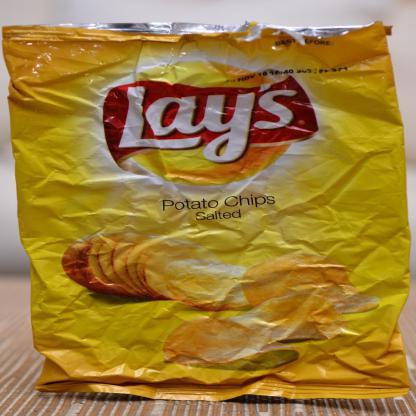classicsalted: (0, 22, 414, 401)
